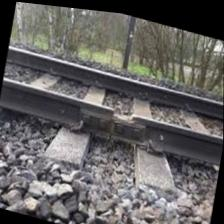person: (108, 99, 139, 125)
